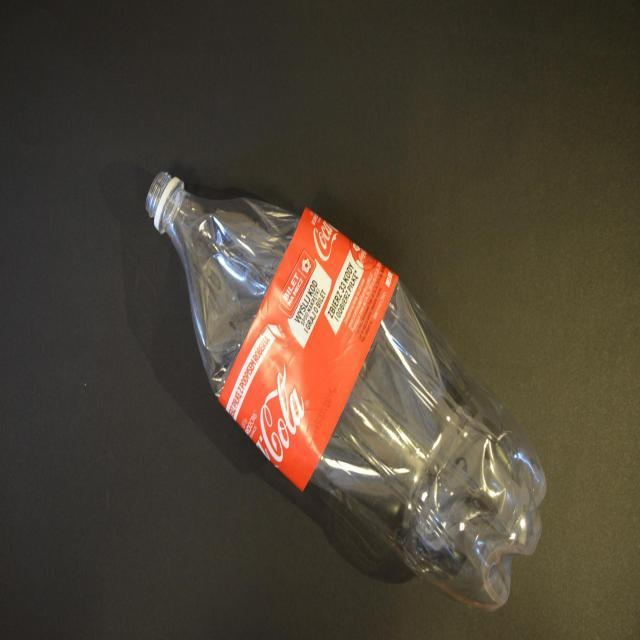plastic_bottle: (144, 171, 547, 612)
